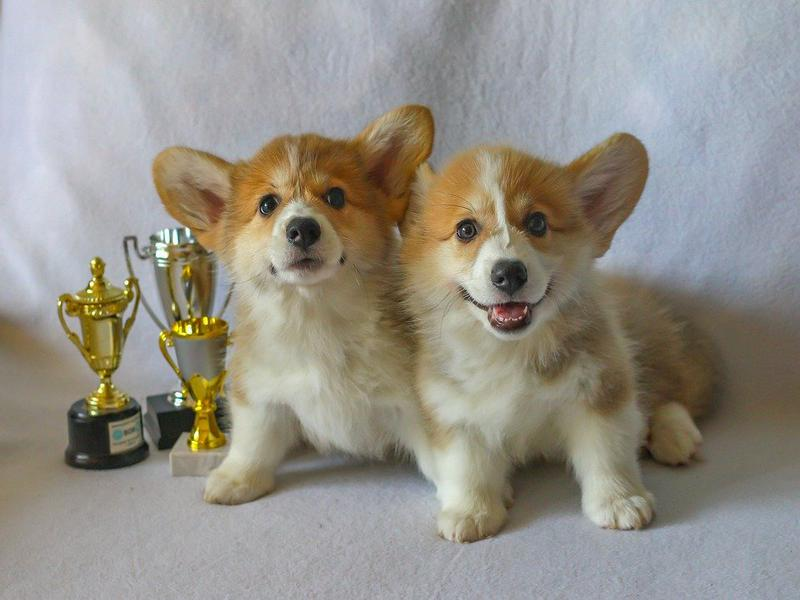corgi: (143, 103, 440, 288)
